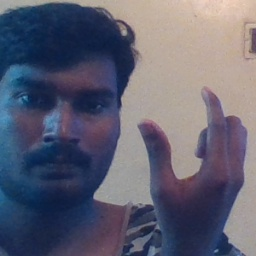U: (132, 82, 250, 227)
